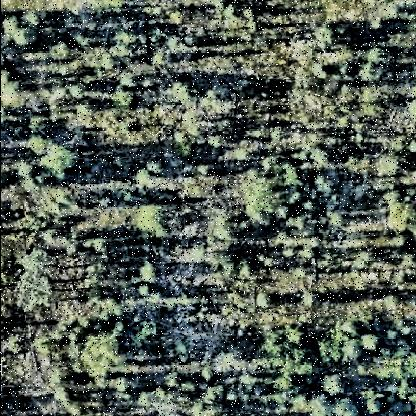tree-top: (77, 327, 127, 380), (269, 343, 319, 387), (240, 180, 280, 226), (41, 145, 81, 183), (134, 204, 170, 241), (203, 84, 239, 120), (386, 191, 416, 234), (1, 15, 35, 52), (374, 152, 406, 182), (166, 79, 199, 107), (357, 60, 388, 89), (310, 24, 336, 55), (87, 235, 114, 263), (45, 39, 71, 68), (1, 69, 20, 107), (323, 374, 350, 400), (304, 147, 332, 171), (339, 338, 364, 364), (139, 261, 163, 287), (150, 49, 174, 73), (199, 386, 225, 408), (309, 178, 334, 200), (360, 333, 384, 355), (387, 231, 409, 255), (114, 29, 139, 49), (116, 70, 141, 90), (135, 164, 153, 191), (112, 89, 134, 111), (328, 398, 354, 416), (384, 4, 410, 22), (368, 17, 389, 38), (362, 399, 386, 416), (239, 6, 259, 24), (406, 93, 416, 126), (239, 262, 257, 280), (313, 64, 331, 82), (255, 295, 273, 313), (70, 85, 89, 102), (300, 199, 317, 217)
